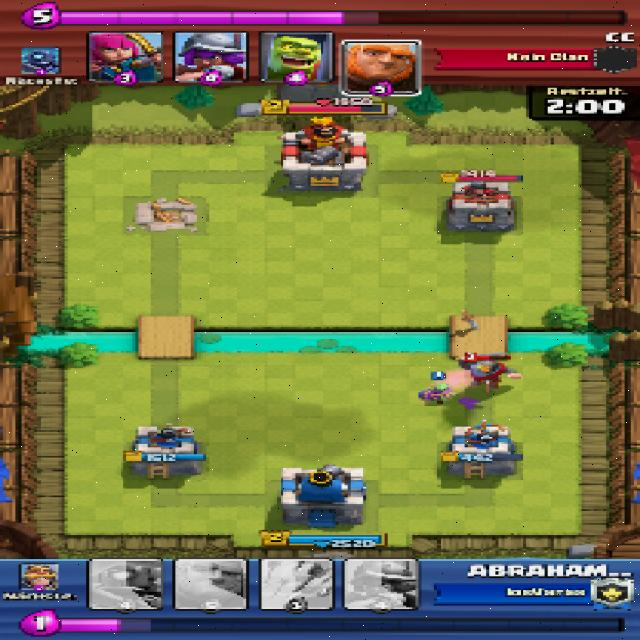Enemy-Knight: (458, 361, 517, 388)
Player-SpearGoblin: (419, 383, 456, 404)
